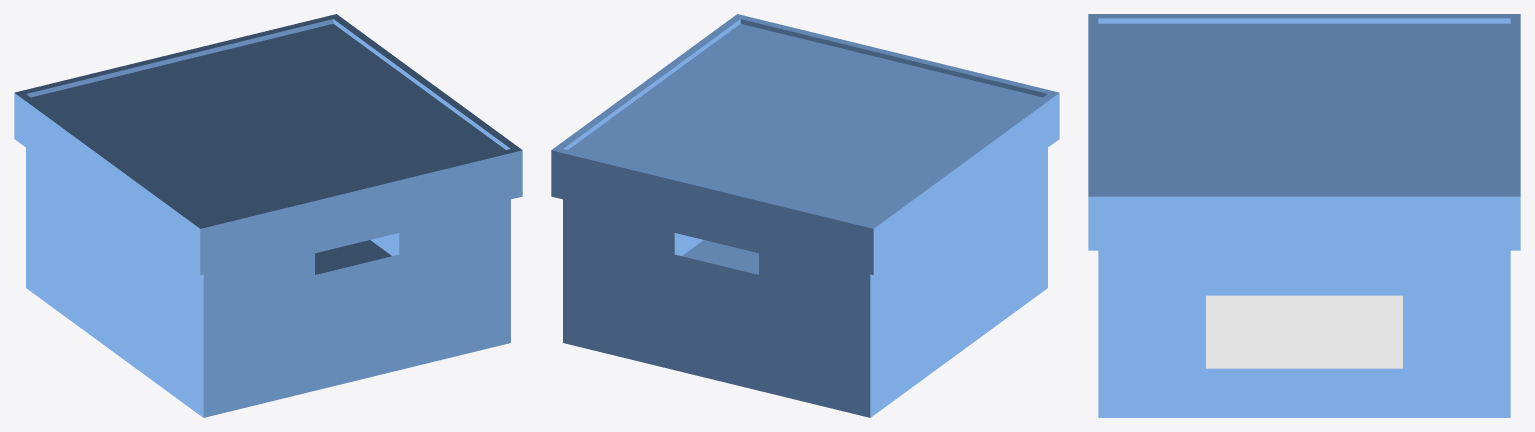
The model's file is Storage Box 1.fbx.
3 renders of one model, left to right at view 1: azimuth 30°, elevation 25°; view 2: azimuth 150°, elevation 25°; view 3: azimuth 270°, elevation 25°, orthographic. The views are drawn at different scales.
Visible parts, largest first — view 1: Node 0; view 2: Node 0; view 3: Node 0.
Part boxes in pixels (x1=…): Node 0: x1=14, y1=14, x2=522, y2=417; Node 0: x1=551, y1=14, x2=1059, y2=417; Node 0: x1=1088, y1=14, x2=1520, y2=417.
Bounding box in the file's own units: 0.4987 × 0.2869 × 0.4987.
